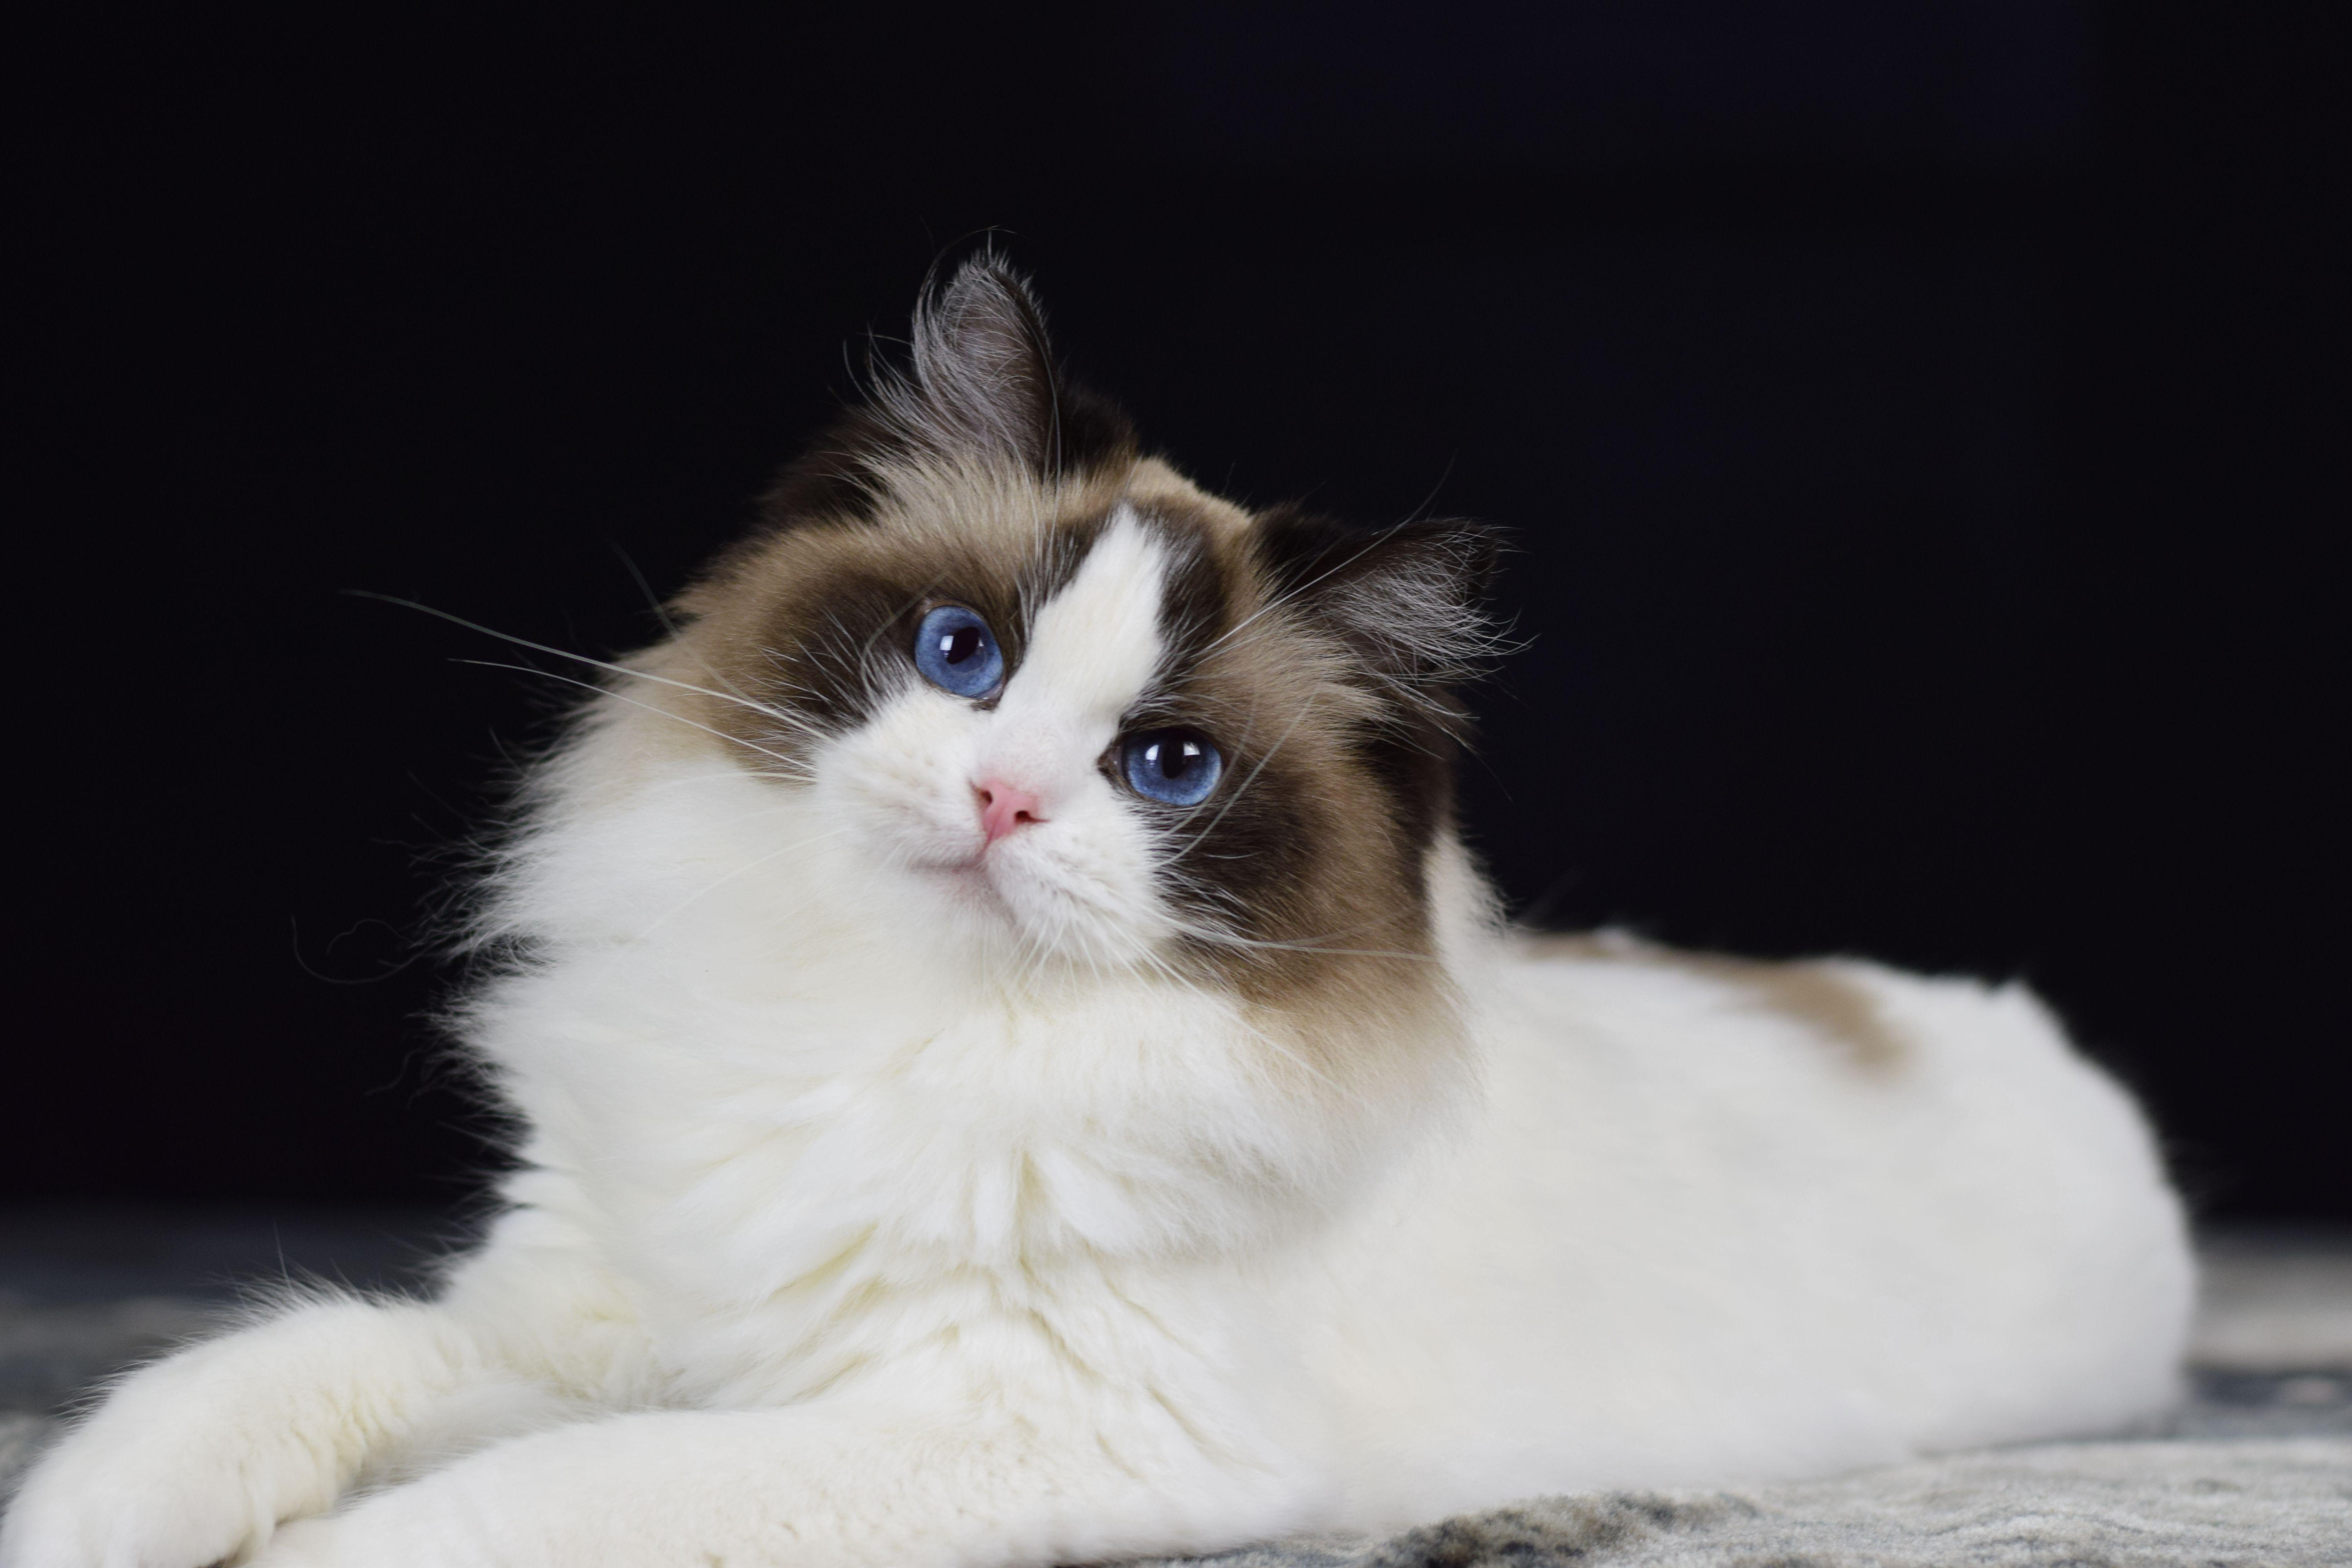ragdoll: (660, 196, 1559, 1106)
